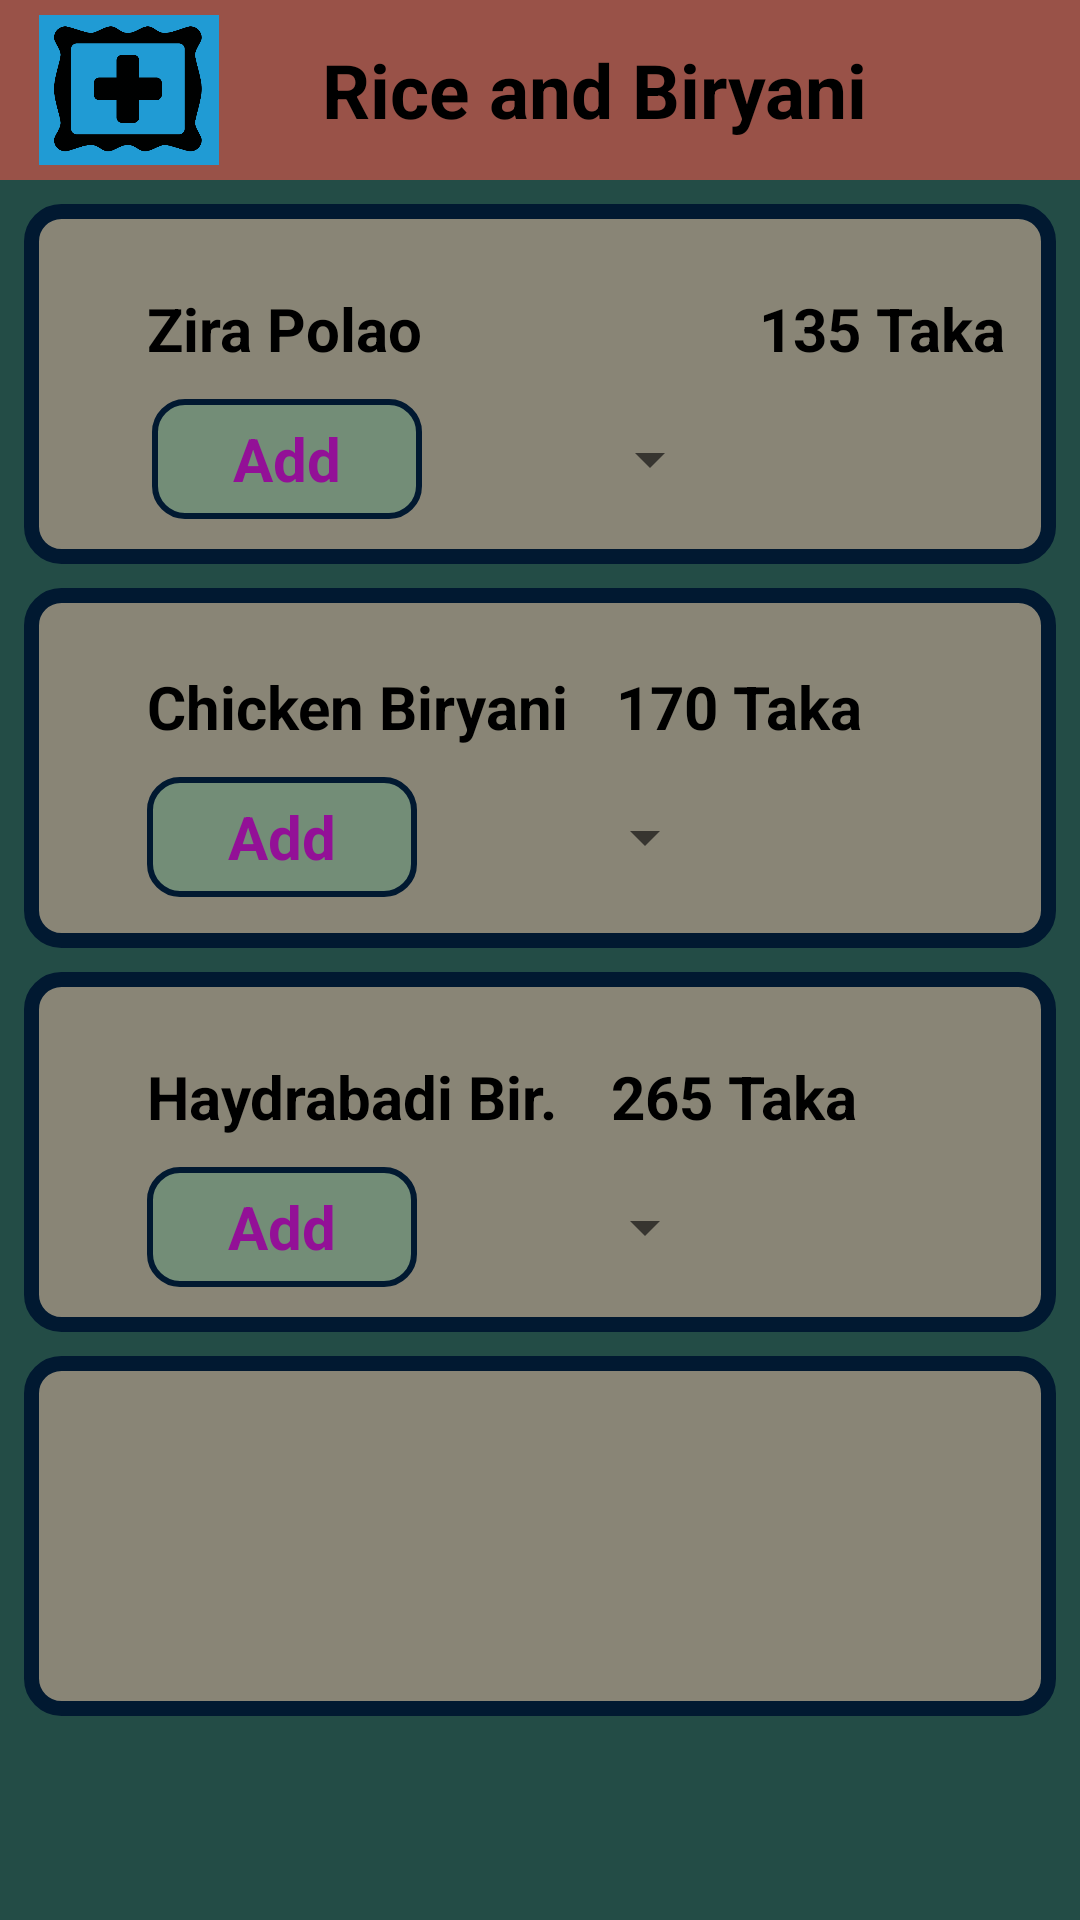

Screen size 1080 × 1920. Icon name, then its center in pixels as [x,y]:
add: [129,90]
